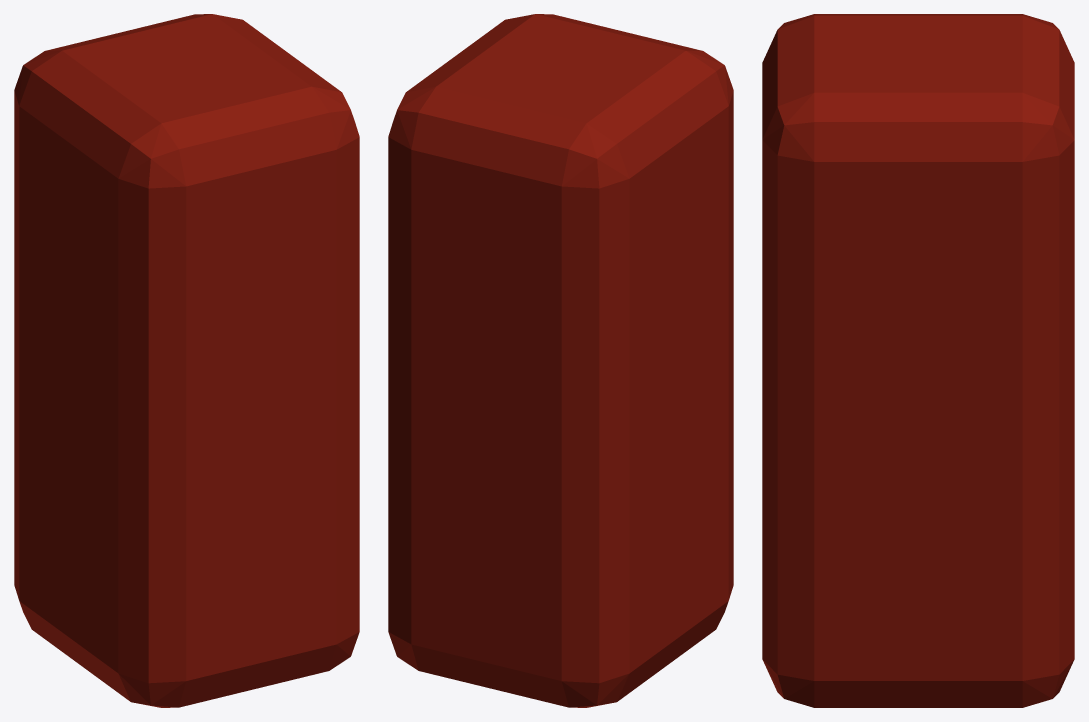
The model's file is AsterBrake.obj.
The picture shows the model from 3 angles, left to right: view 1: azimuth 30°, elevation 25°; view 2: azimuth 150°, elevation 25°; view 3: azimuth 270°, elevation 25°; orthographic projection. The views are drawn at different scales.
Visible parts, largest first — view 1: AsterBrake; view 2: AsterBrake; view 3: AsterBrake.
Part boxes in pixels (x1=…): AsterBrake: x1=14, y1=14, x2=359, y2=707; AsterBrake: x1=388, y1=14, x2=733, y2=707; AsterBrake: x1=762, y1=14, x2=1074, y2=707.
Size of the model in its own units: 0.055 by 0.13 by 0.06.
